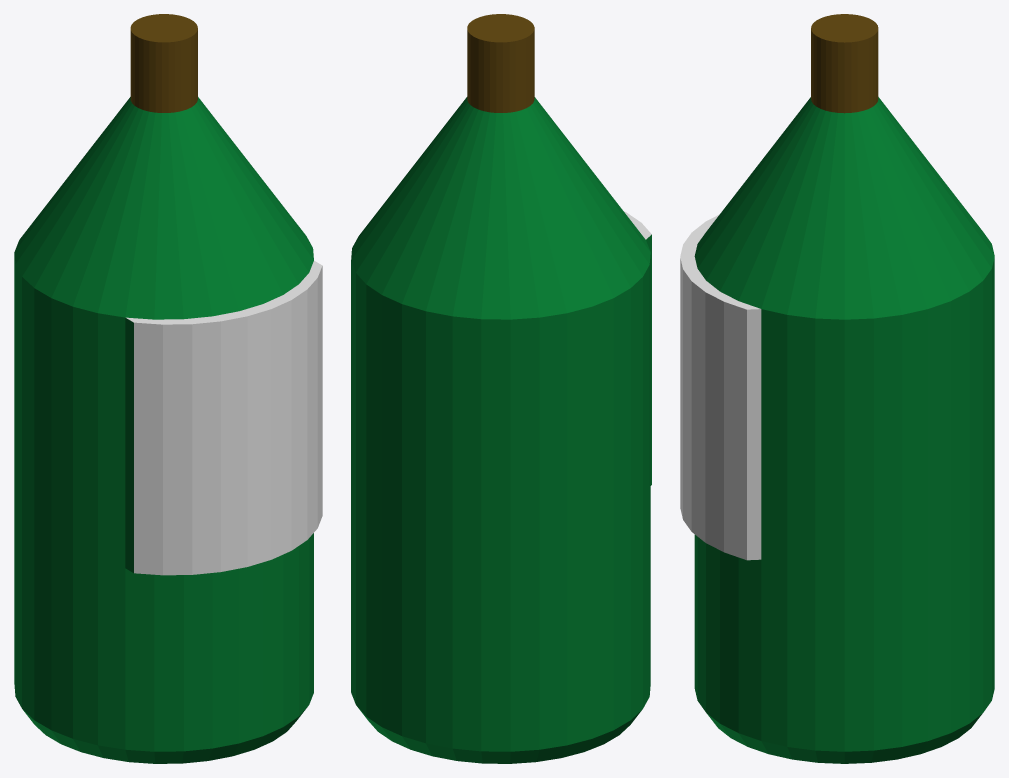
The model's file is Alcohol1New.glb.
The picture shows the model from 3 angles, left to right: view 1: azimuth 30°, elevation 25°; view 2: azimuth 150°, elevation 25°; view 3: azimuth 270°, elevation 25°; orthographic projection.
Parts seen in each view (by area): view 1: Cylinder; view 2: Cylinder; view 3: Cylinder.
Part boxes in pixels (x1,y1,x2,y2): Cylinder: (14, 14, 322, 763); Cylinder: (351, 14, 651, 763); Cylinder: (680, 14, 994, 763).
Bounding box in the file's own units: 4 × 9.97 × 4.19.
